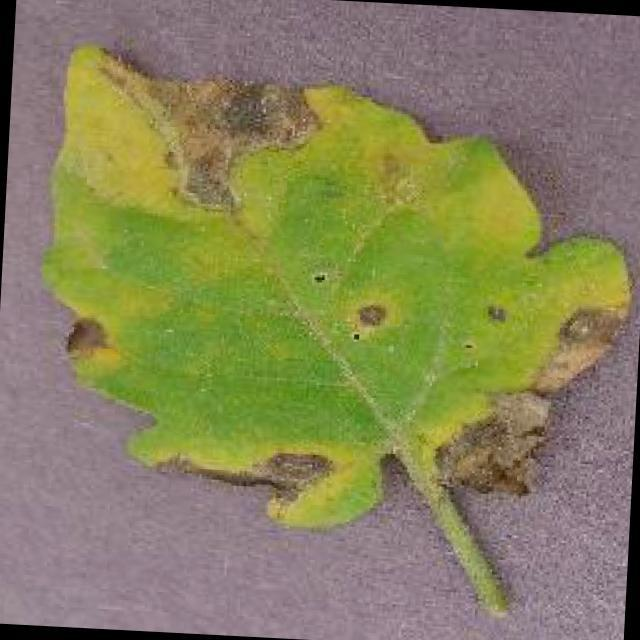Tomato Septoria spot leaf: (33, 36, 640, 543)
